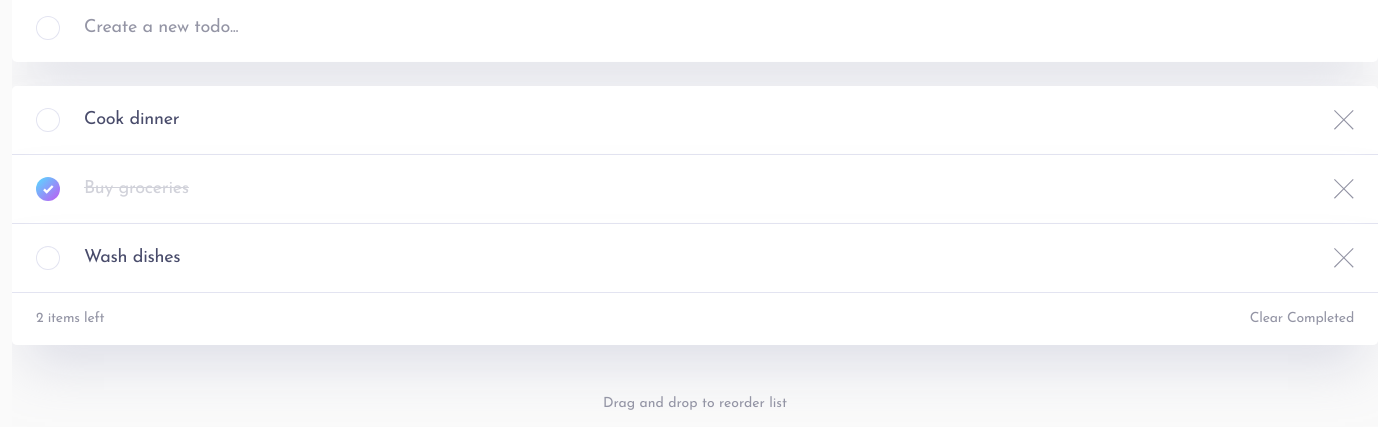
Scenario: TodoList › "Clear completed" button › does not display a button for clearing all completed items if there is no completed item
The image size is (1378, 427).
Step 1. Click the 3rd checkbox → (48, 189), box [36,175,60,203]
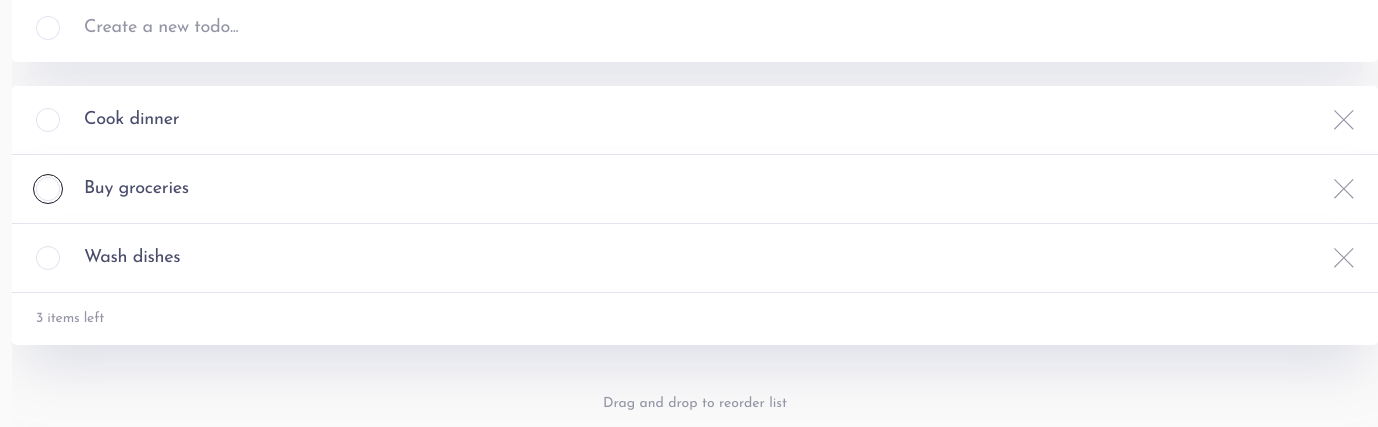
Now the button "Clear Completed" is gone
